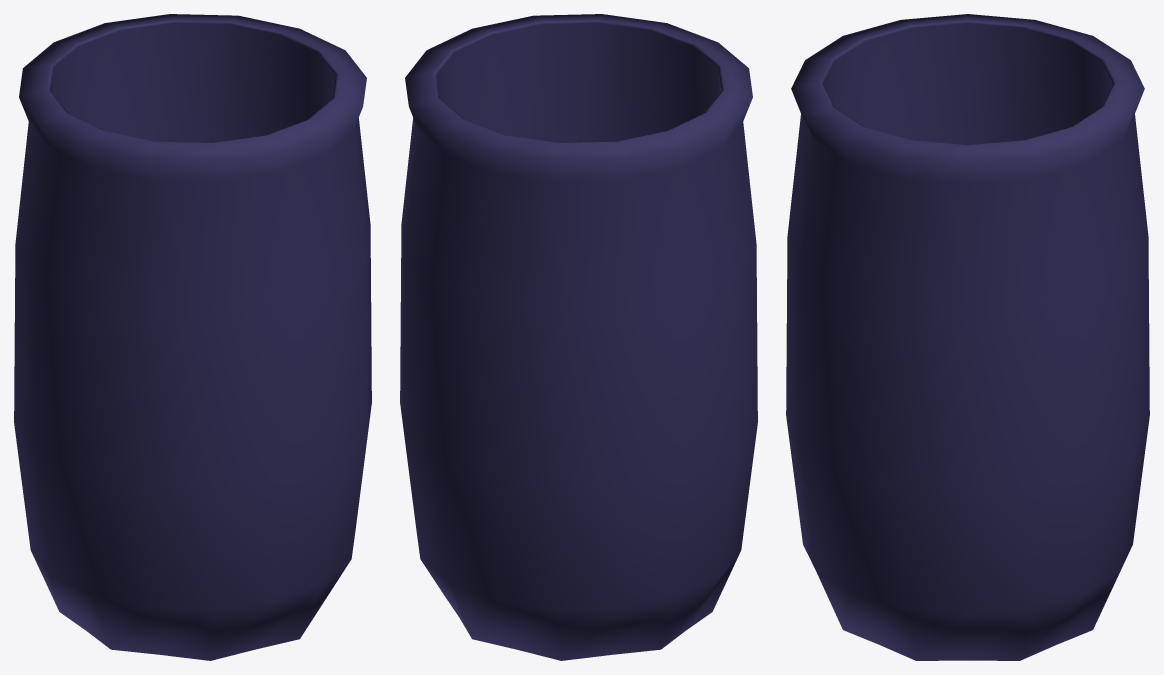
The model's file is B_Jar_02.fbx.
3 renders of one model, left to right at view 1: azimuth 30°, elevation 25°; view 2: azimuth 150°, elevation 25°; view 3: azimuth 270°, elevation 25°, orthographic.
Parts seen in each view (by area): view 1: B_Jar_02; view 2: B_Jar_02; view 3: B_Jar_02.
Boxes of the visible parts, x1,y1,x2,y2 form: B_Jar_02: (14, 14, 371, 660); B_Jar_02: (400, 14, 757, 660); B_Jar_02: (786, 14, 1149, 660).
Size of the model in its own units: 44.53 by 71.01 by 44.53.
